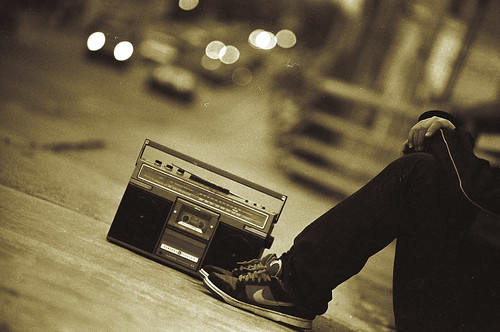radio: (109, 153, 269, 297)
shoe: (212, 247, 318, 332)
